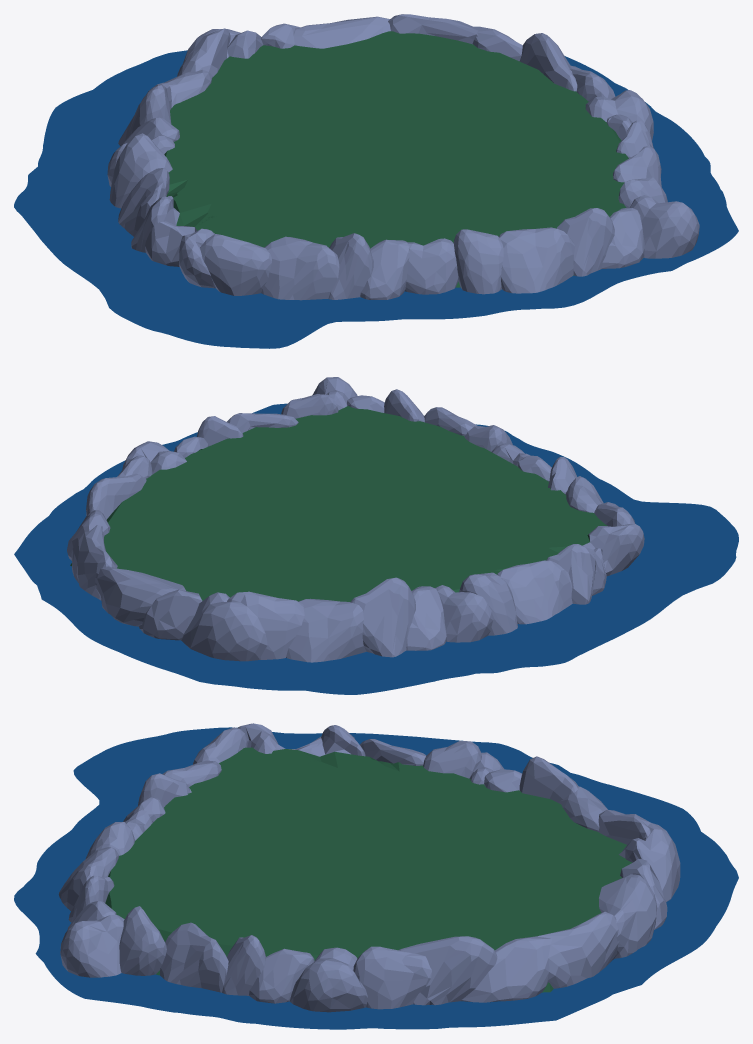
The model's file is LandScape_01.fbx.
The picture shows the model from 3 angles, top to bottom: view 1: azimuth 30°, elevation 25°; view 2: azimuth 150°, elevation 25°; view 3: azimuth 270°, elevation 25°; orthographic projection. The views are drawn at different scales.
Parts seen in each view (by area): view 1: CastleLandScape_01, WaterPond; view 2: CastleLandScape_01, WaterPond; view 3: CastleLandScape_01, WaterPond.
Boxes of the visible parts, left/top/right/bottom form: CastleLandScape_01: left=107, top=14, right=699, bottom=300; WaterPond: left=14, top=50, right=738, bottom=348; CastleLandScape_01: left=67, top=377, right=644, bottom=662; WaterPond: left=14, top=403, right=738, bottom=694; CastleLandScape_01: left=58, top=723, right=680, bottom=1012; WaterPond: left=14, top=727, right=738, bottom=1029.
Size of the model in its own units: 21539 by 2318 by 21842.
